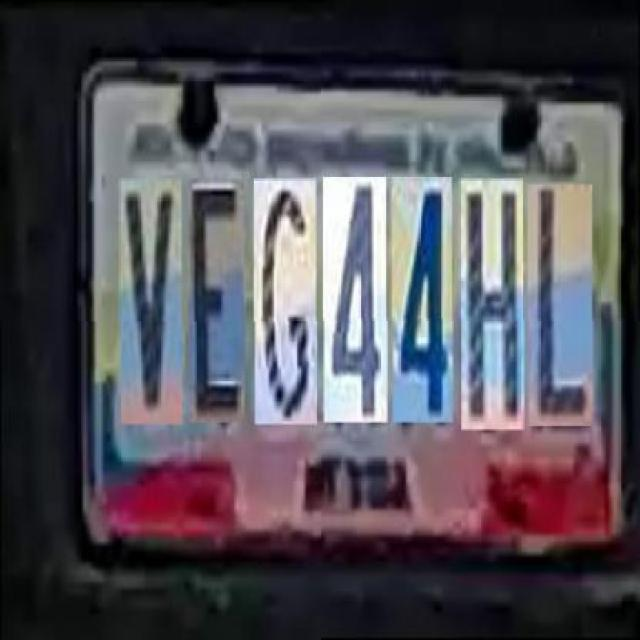4: (324, 178, 387, 424), (393, 178, 453, 424)
e: (189, 179, 245, 423)
g: (255, 178, 318, 424)
h: (460, 180, 525, 432)
l: (529, 186, 593, 428)
v: (120, 178, 183, 424)
